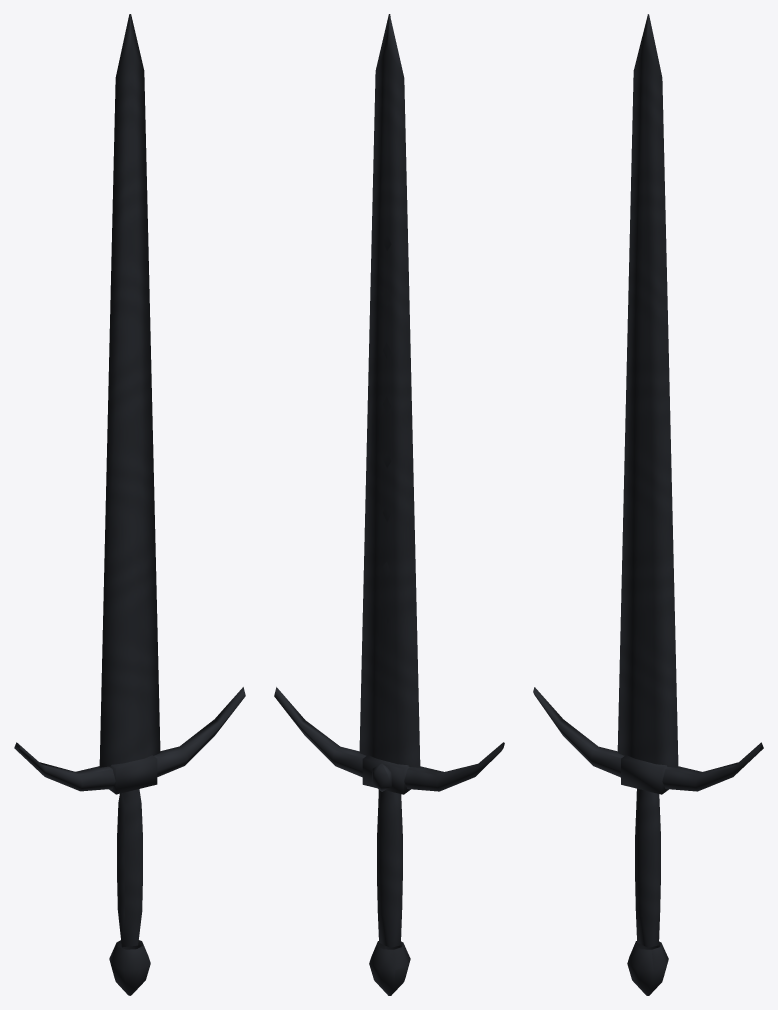
File: aion2_dark_fantasy_sword_LOD1.glb
3 views of the same model, side by side, from view 1: azimuth 30°, elevation 25°; view 2: azimuth 150°, elevation 25°; view 3: azimuth 330°, elevation 25° (orthographic).
Visible parts, largest first — view 1: aion2_dark_fantasy_sword_LOD1; view 2: aion2_dark_fantasy_sword_LOD1; view 3: aion2_dark_fantasy_sword_LOD1.
Boxes of the visible parts, bbox=[...] form: aion2_dark_fantasy_sword_LOD1: bbox=[14, 14, 245, 995]; aion2_dark_fantasy_sword_LOD1: bbox=[274, 14, 504, 995]; aion2_dark_fantasy_sword_LOD1: bbox=[533, 14, 763, 995].
Bounding box in the file's own units: 0.4142 × 1.71 × 0.0709.
1 material, 1 textured.
